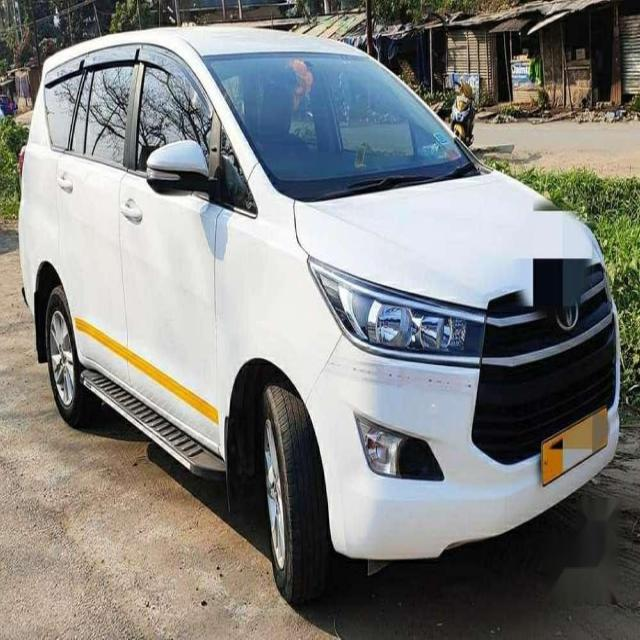light_vehicle: (16, 21, 622, 606)
